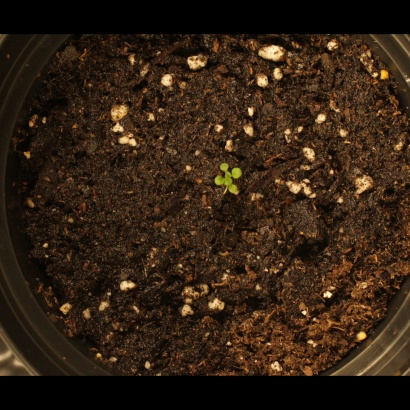leaf: (233, 158, 256, 181), (207, 151, 230, 174), (202, 172, 225, 195), (226, 182, 249, 205)
